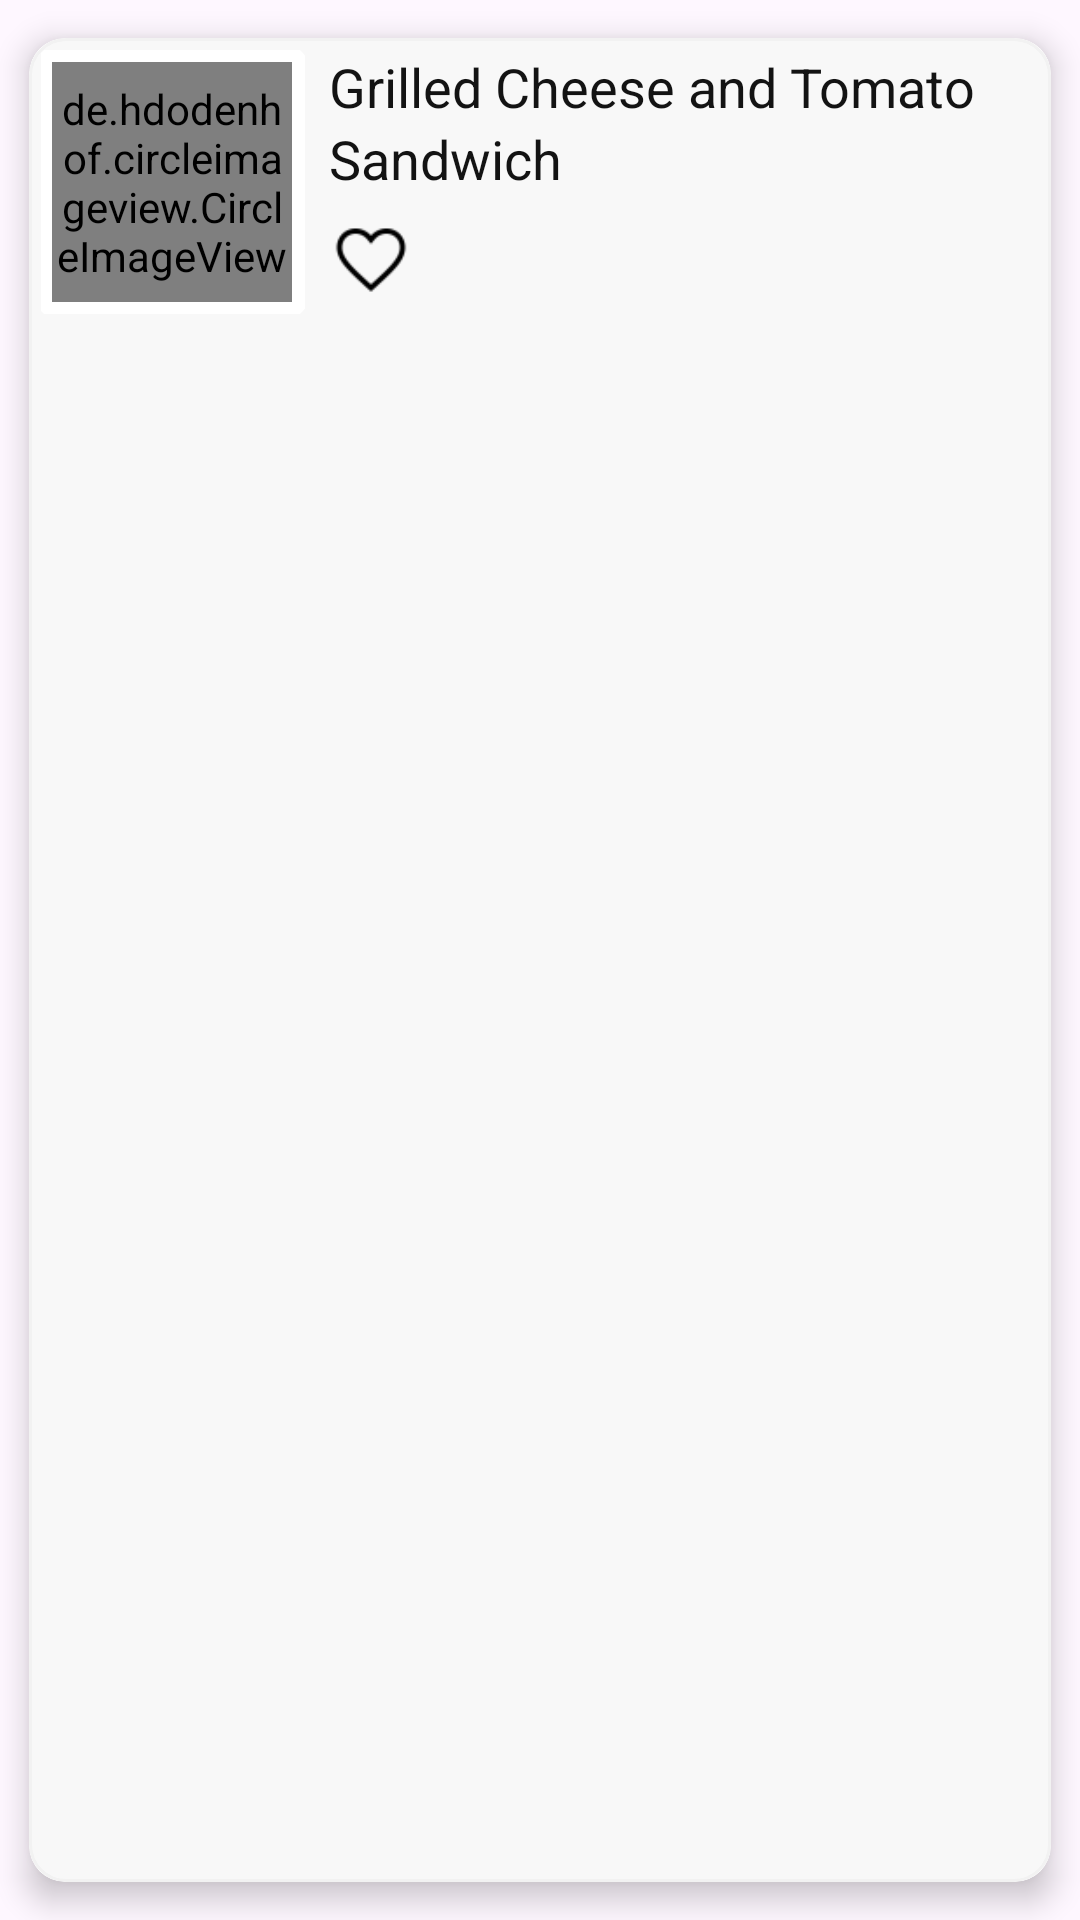

Screen size 1080 × 1920. Icon name, then its box in pixels as bbox(x1, y1, x2, y2):
fav: bbox(335, 228, 407, 292)
